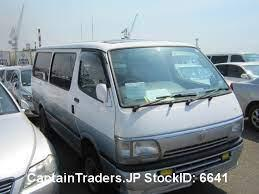van: (30, 42, 247, 183)
